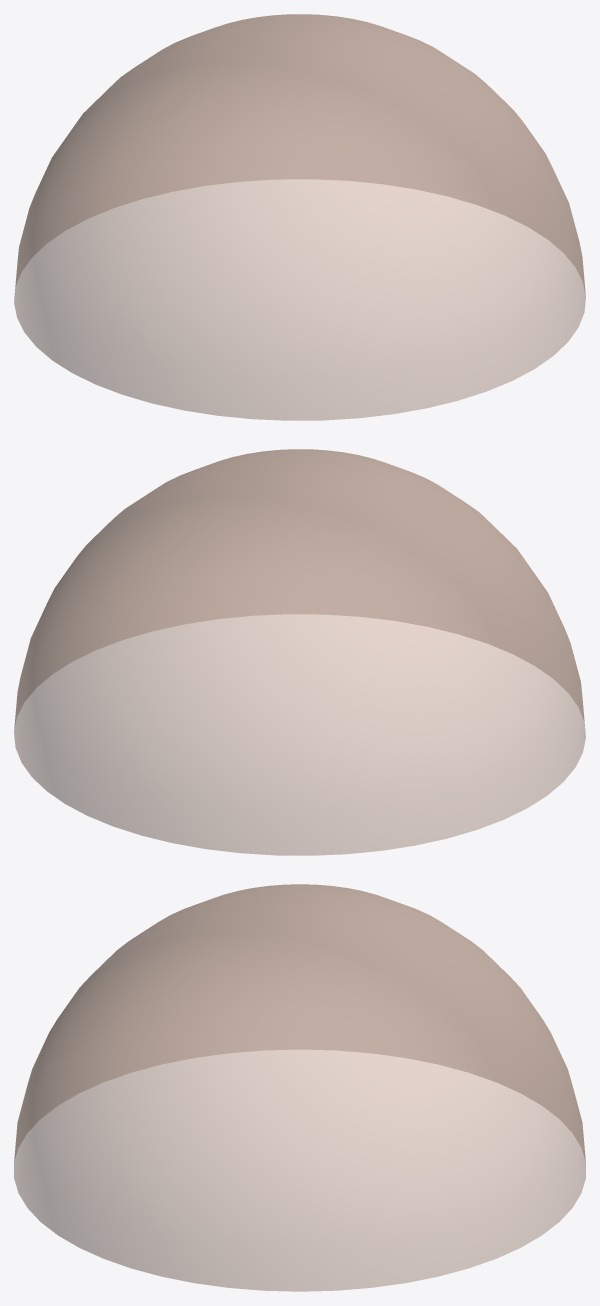
File: dome.fbx
3 renders of one model, top to bottom at view 1: azimuth 30°, elevation 25°; view 2: azimuth 150°, elevation 25°; view 3: azimuth 270°, elevation 25°, orthographic.
Parts seen in each view (by area): view 1: Dome; view 2: Dome; view 3: Dome.
Boxes of the visible parts, <box> form: Dome: <box>14,14,585,420</box>; Dome: <box>14,449,585,855</box>; Dome: <box>14,884,585,1291</box>.
Bounding box in the file's own units: 70.56 × 35.28 × 70.42.
